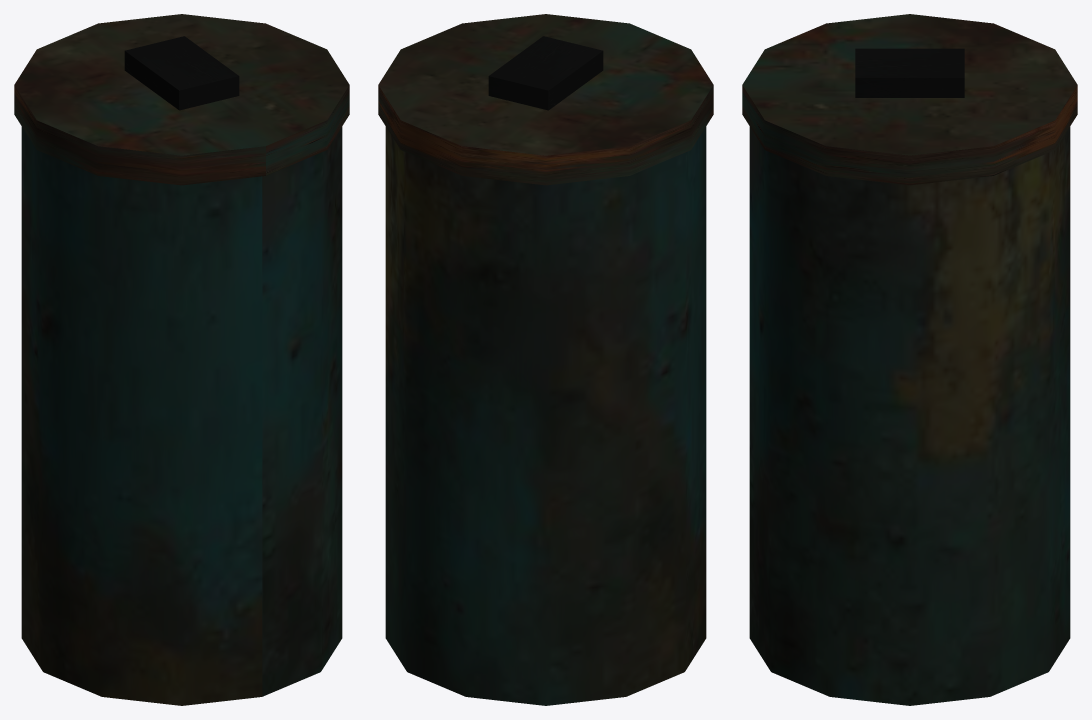
Rendered from loose_can.glb.
3 renders of one model, left to right at view 1: azimuth 30°, elevation 25°; view 2: azimuth 150°, elevation 25°; view 3: azimuth 270°, elevation 25°, orthographic.
Visible parts, largest first — view 1: DentedCan, CanRim, PullTab; view 2: DentedCan, CanRim, PullTab; view 3: DentedCan, CanRim, PullTab.
Boxes of the visible parts, <box> form: DentedCan: <box>21,126,342,705</box>; CanRim: <box>14,14,349,185</box>; PullTab: <box>124,36,239,110</box>; DentedCan: <box>385,126,706,705</box>; CanRim: <box>378,14,713,185</box>; PullTab: <box>488,36,603,110</box>; DentedCan: <box>749,126,1070,705</box>; CanRim: <box>742,14,1077,185</box>; PullTab: <box>855,48,964,97</box>.
Bounding box in the file's own units: 0.092 × 0.174 × 0.092.
Materials: 3 (3 with a texture image).
